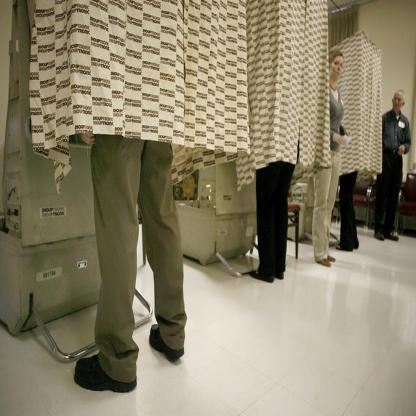face: (332, 57, 344, 79), (394, 94, 403, 111)
